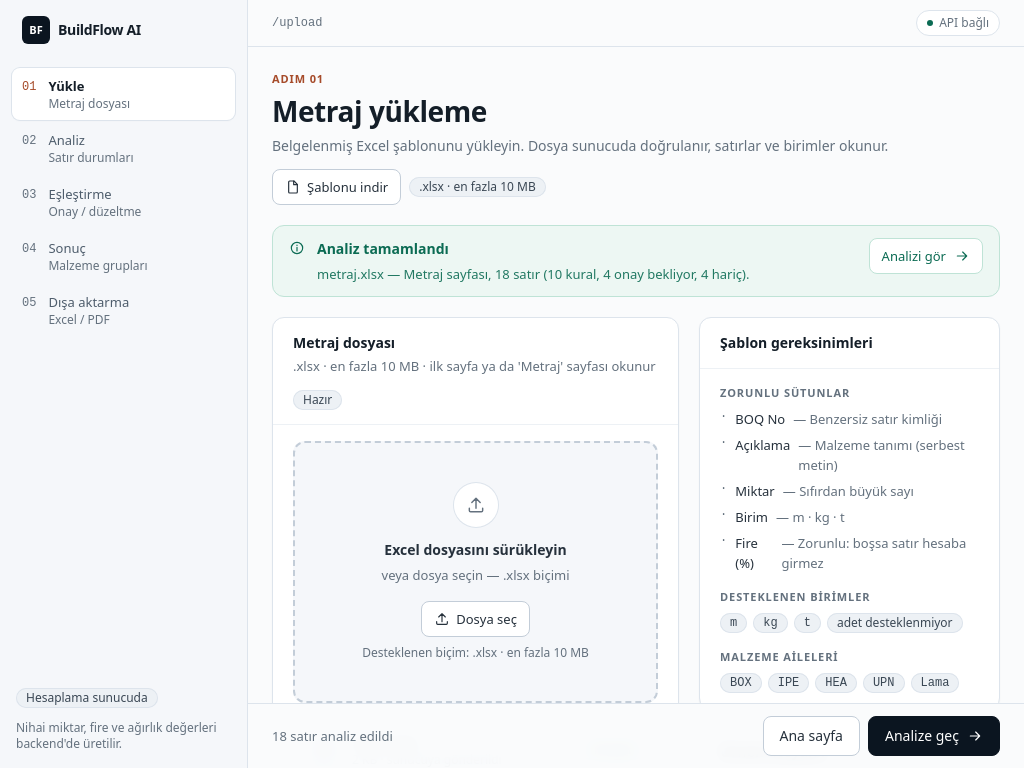
Test case: ReviewPage › eşleşen satır karar verilemez; yalnızca pending satır onaylanabilir
Earlier steps of the test are not shown.
Expected: the text "Analiz tamamlandı" is shown, [317,239,449,258]
Click the button "Analize geç" at (934, 736), box [868,716,1000,756]
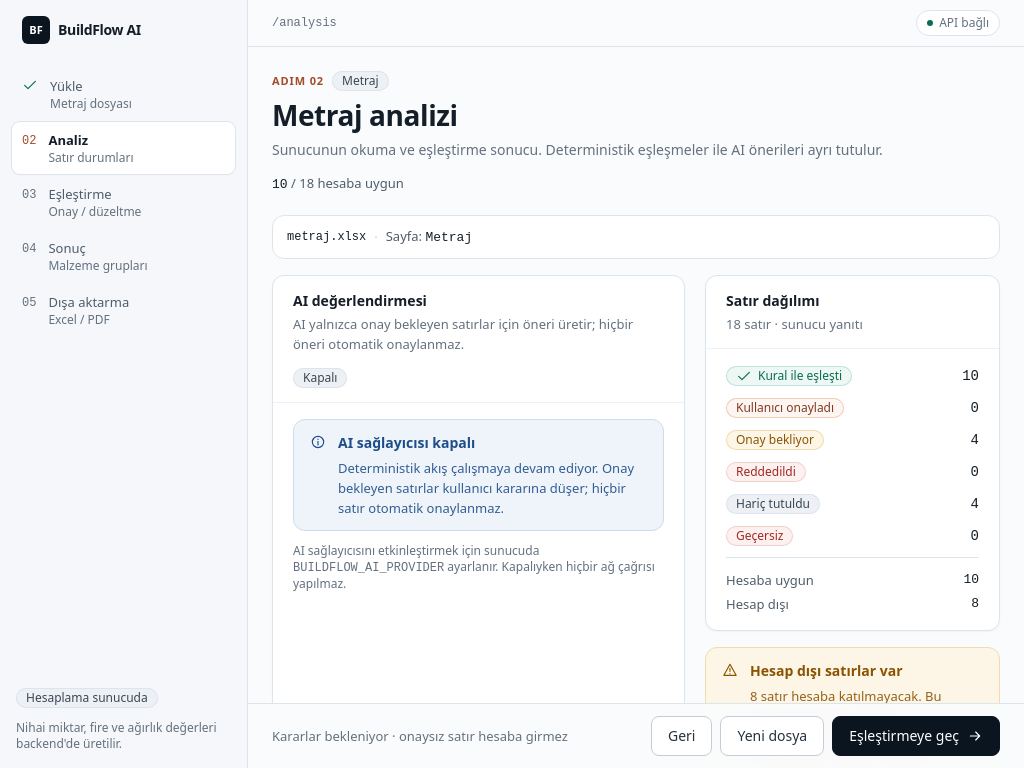
Expected: the heading "Metraj analizi" is shown, [272,96,458,134]
Click the button "Eşleştirmeye geç" at (916, 736), box [832,716,1000,756]
(page scrolled)
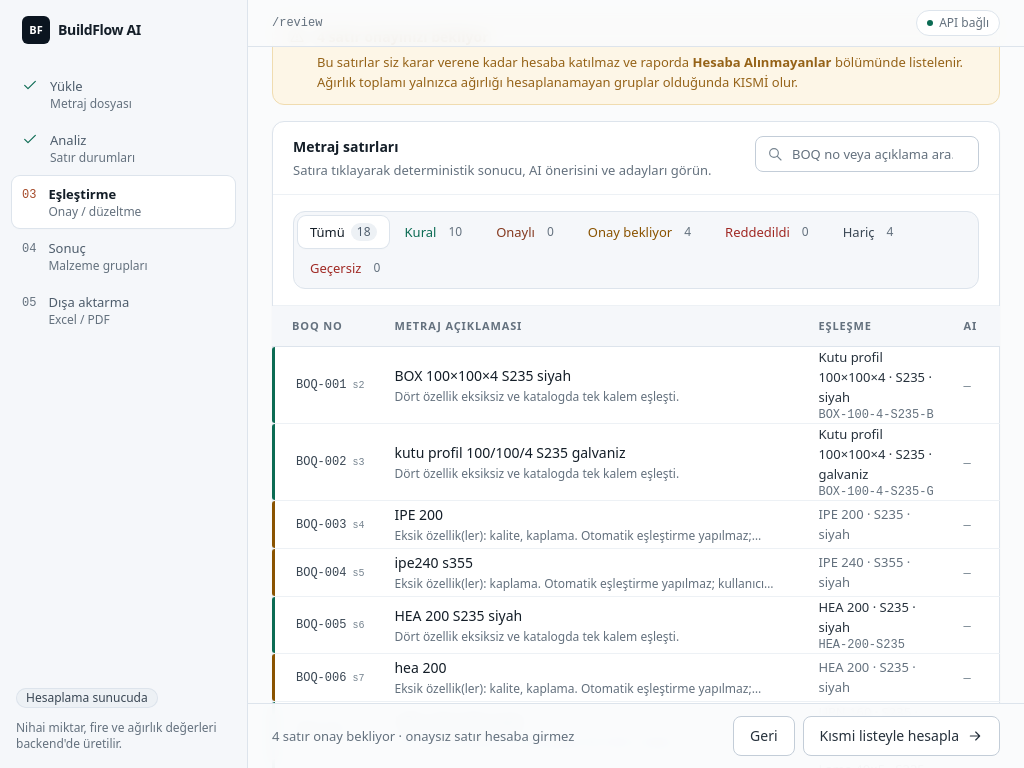
Click the text "BOQ-001" at (648, 384), box [272,346,1023,423]
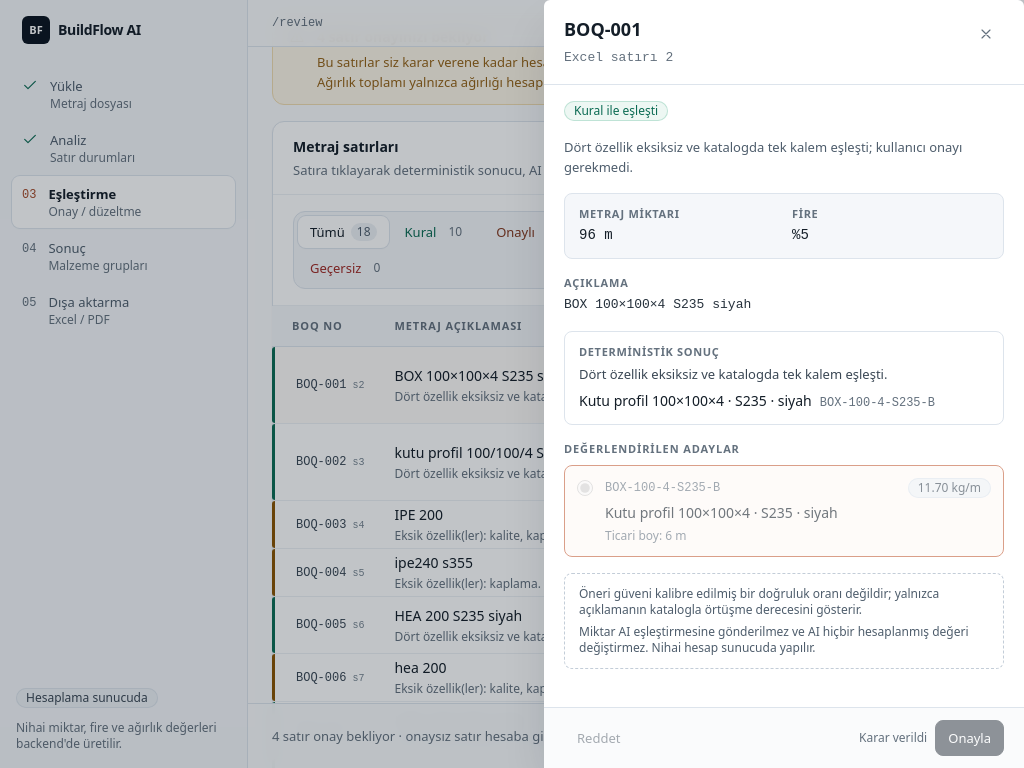
Expected: the button "Onayla" is disabled, [935,720,1004,756]
Expected: the text "Kural ile eşleşti" is shown, [564,101,668,121]
Click the button named "Paneli kapat" at (986, 34), box [968,16,1004,52]
(page scrolled)
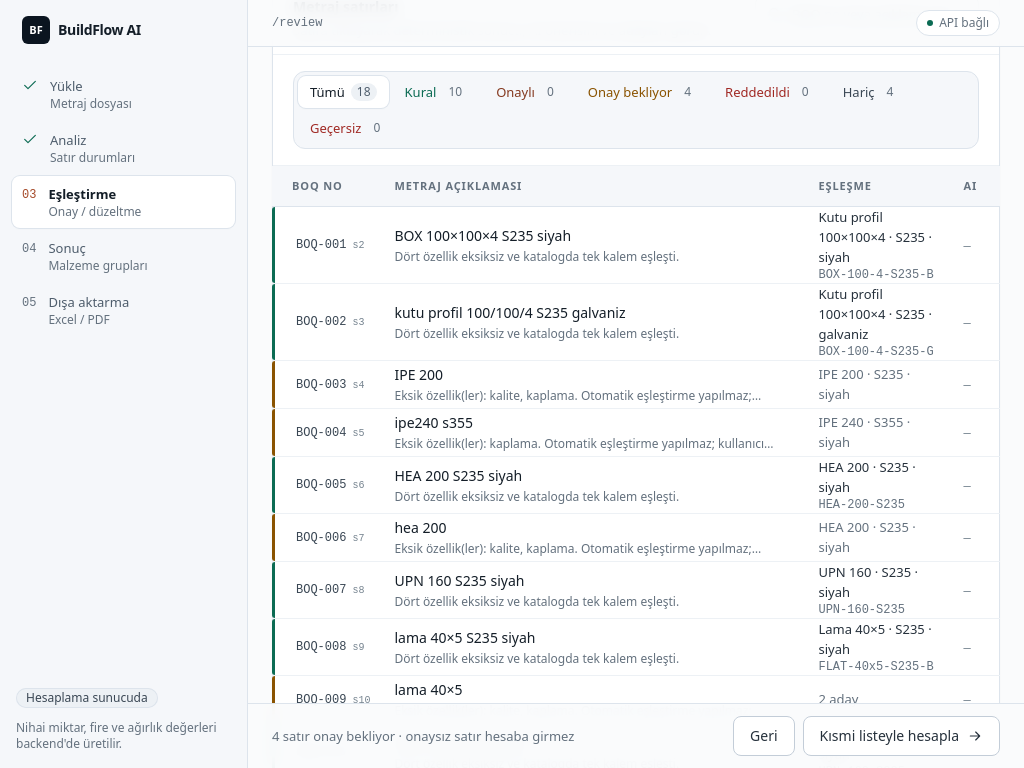
Click the text "BOQ-003" at (648, 384), box [272,360,1023,408]
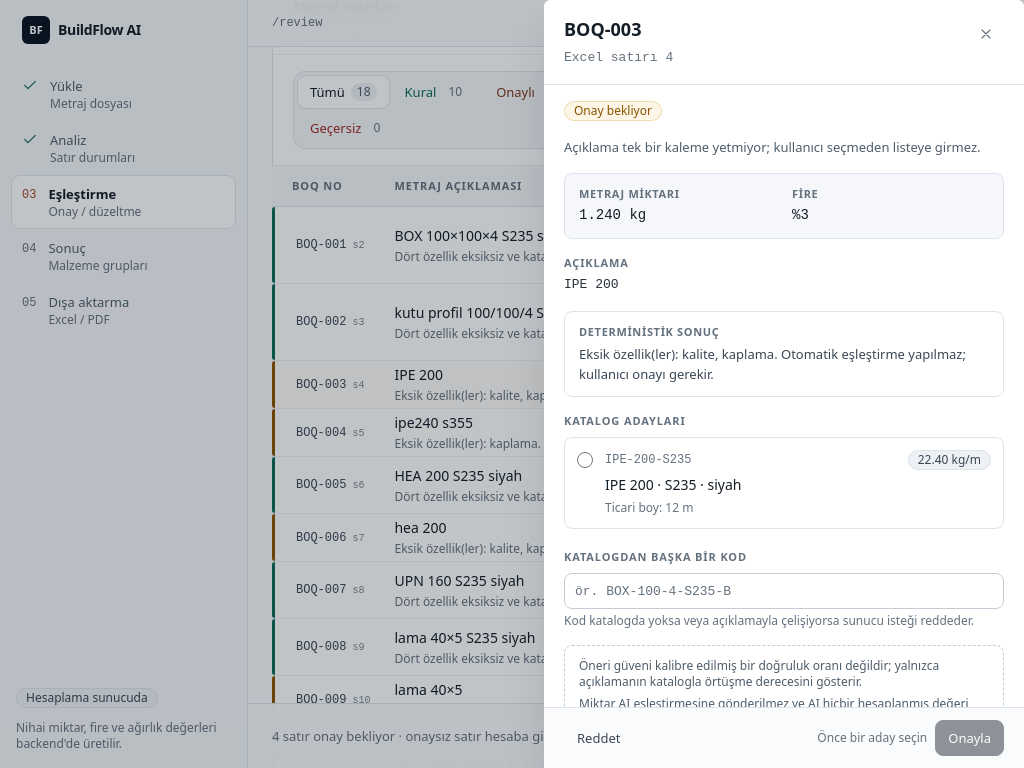
Expected: the button "Reddet" is enabled, [564,720,633,756]
